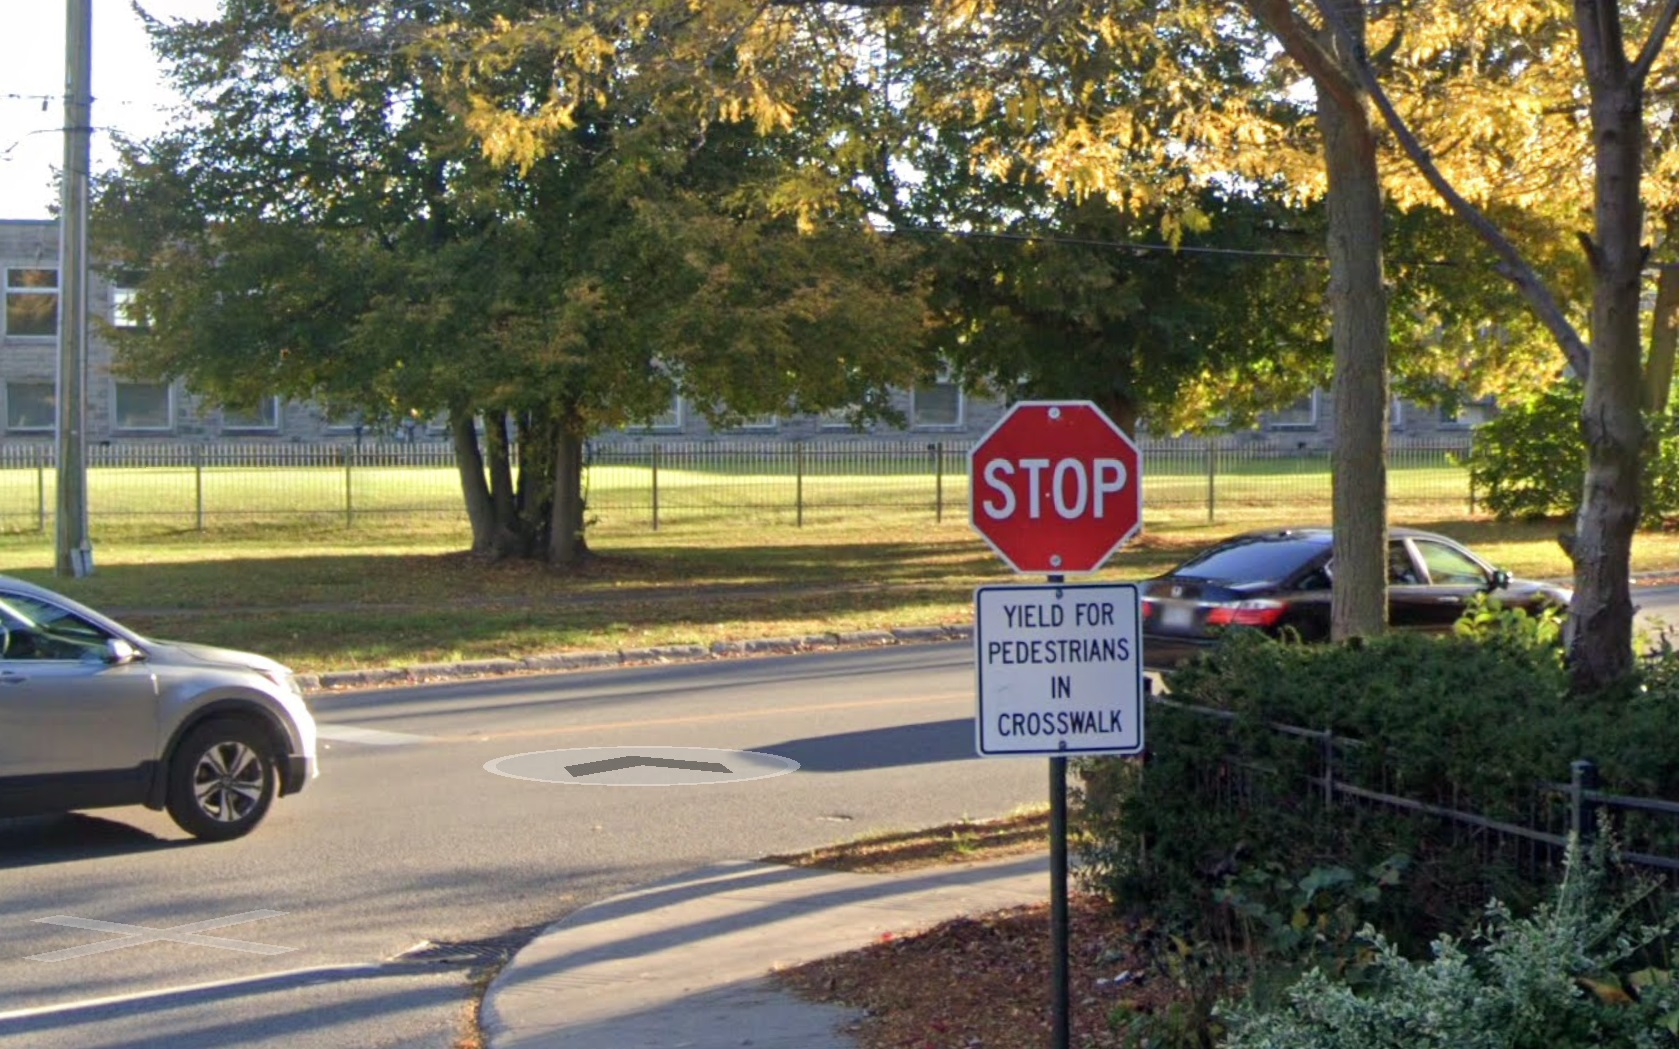sign_stop: (965, 399, 1141, 576)
